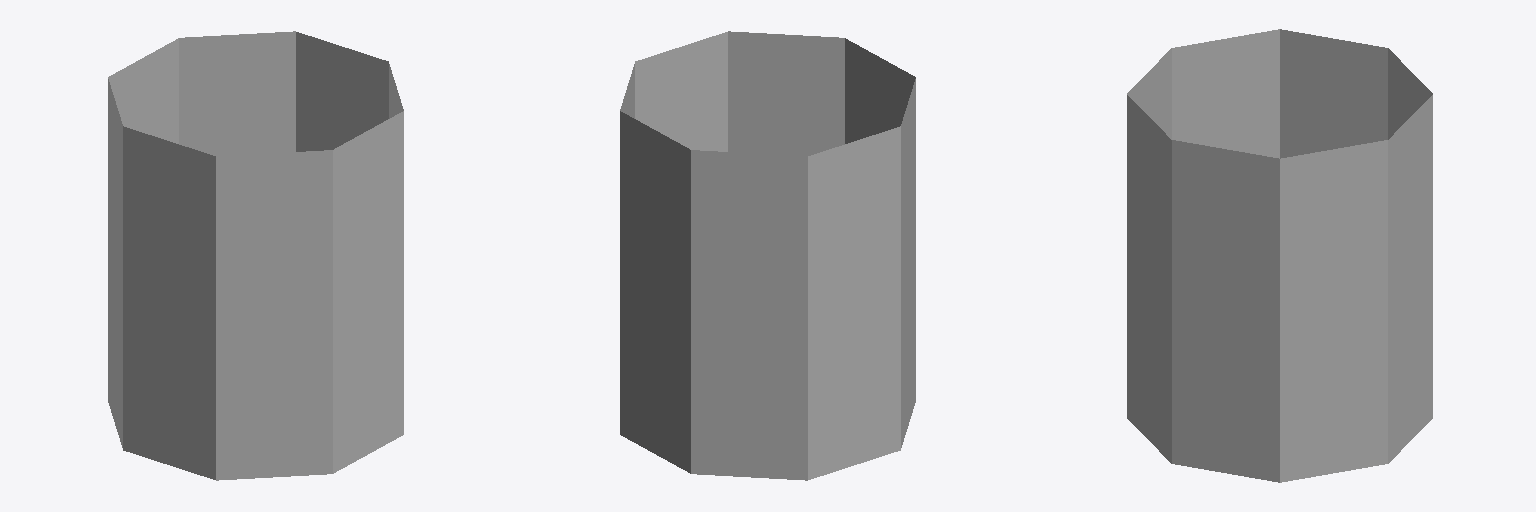
The model's file is ss_pipe_straight_2f.obj.
The picture shows the model from 3 angles: view 1: azimuth 30°, elevation 25°; view 2: azimuth 150°, elevation 25°; view 3: azimuth 270°, elevation 25°; orthographic projection.
Visible parts, largest first — view 1: ss_pipe_straight_2f_Cylinder.002; view 2: ss_pipe_straight_2f_Cylinder.002; view 3: ss_pipe_straight_2f_Cylinder.002.
Boxes of the visible parts, box(x1,y1,x2,y2) form: ss_pipe_straight_2f_Cylinder.002: box(108, 31, 403, 480); ss_pipe_straight_2f_Cylinder.002: box(620, 31, 915, 480); ss_pipe_straight_2f_Cylinder.002: box(1127, 29, 1432, 482).
Bounding box in the file's own units: 0.75 × 0.875 × 0.75.